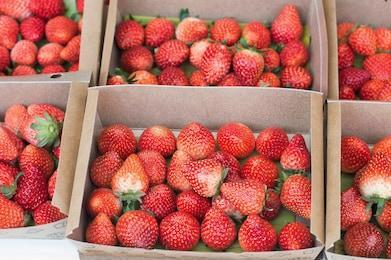Fresa: (218, 177, 270, 218), (178, 156, 226, 200), (110, 152, 150, 203), (158, 209, 203, 253), (198, 205, 239, 253), (214, 118, 259, 161), (359, 149, 391, 204), (16, 112, 62, 149), (278, 171, 312, 221), (236, 212, 278, 252), (115, 207, 157, 247), (88, 148, 128, 188), (345, 218, 385, 258), (166, 147, 199, 195), (199, 40, 232, 86), (242, 153, 284, 189), (232, 43, 266, 87), (176, 119, 216, 156), (279, 132, 313, 174), (96, 121, 138, 155), (270, 3, 303, 46), (141, 182, 180, 218), (256, 123, 291, 163), (137, 123, 177, 157), (85, 186, 126, 218), (17, 166, 48, 208), (83, 211, 119, 247), (276, 220, 315, 253), (152, 36, 192, 68), (207, 15, 243, 47), (114, 15, 146, 50), (143, 14, 174, 48), (278, 64, 315, 91), (348, 24, 378, 57)
